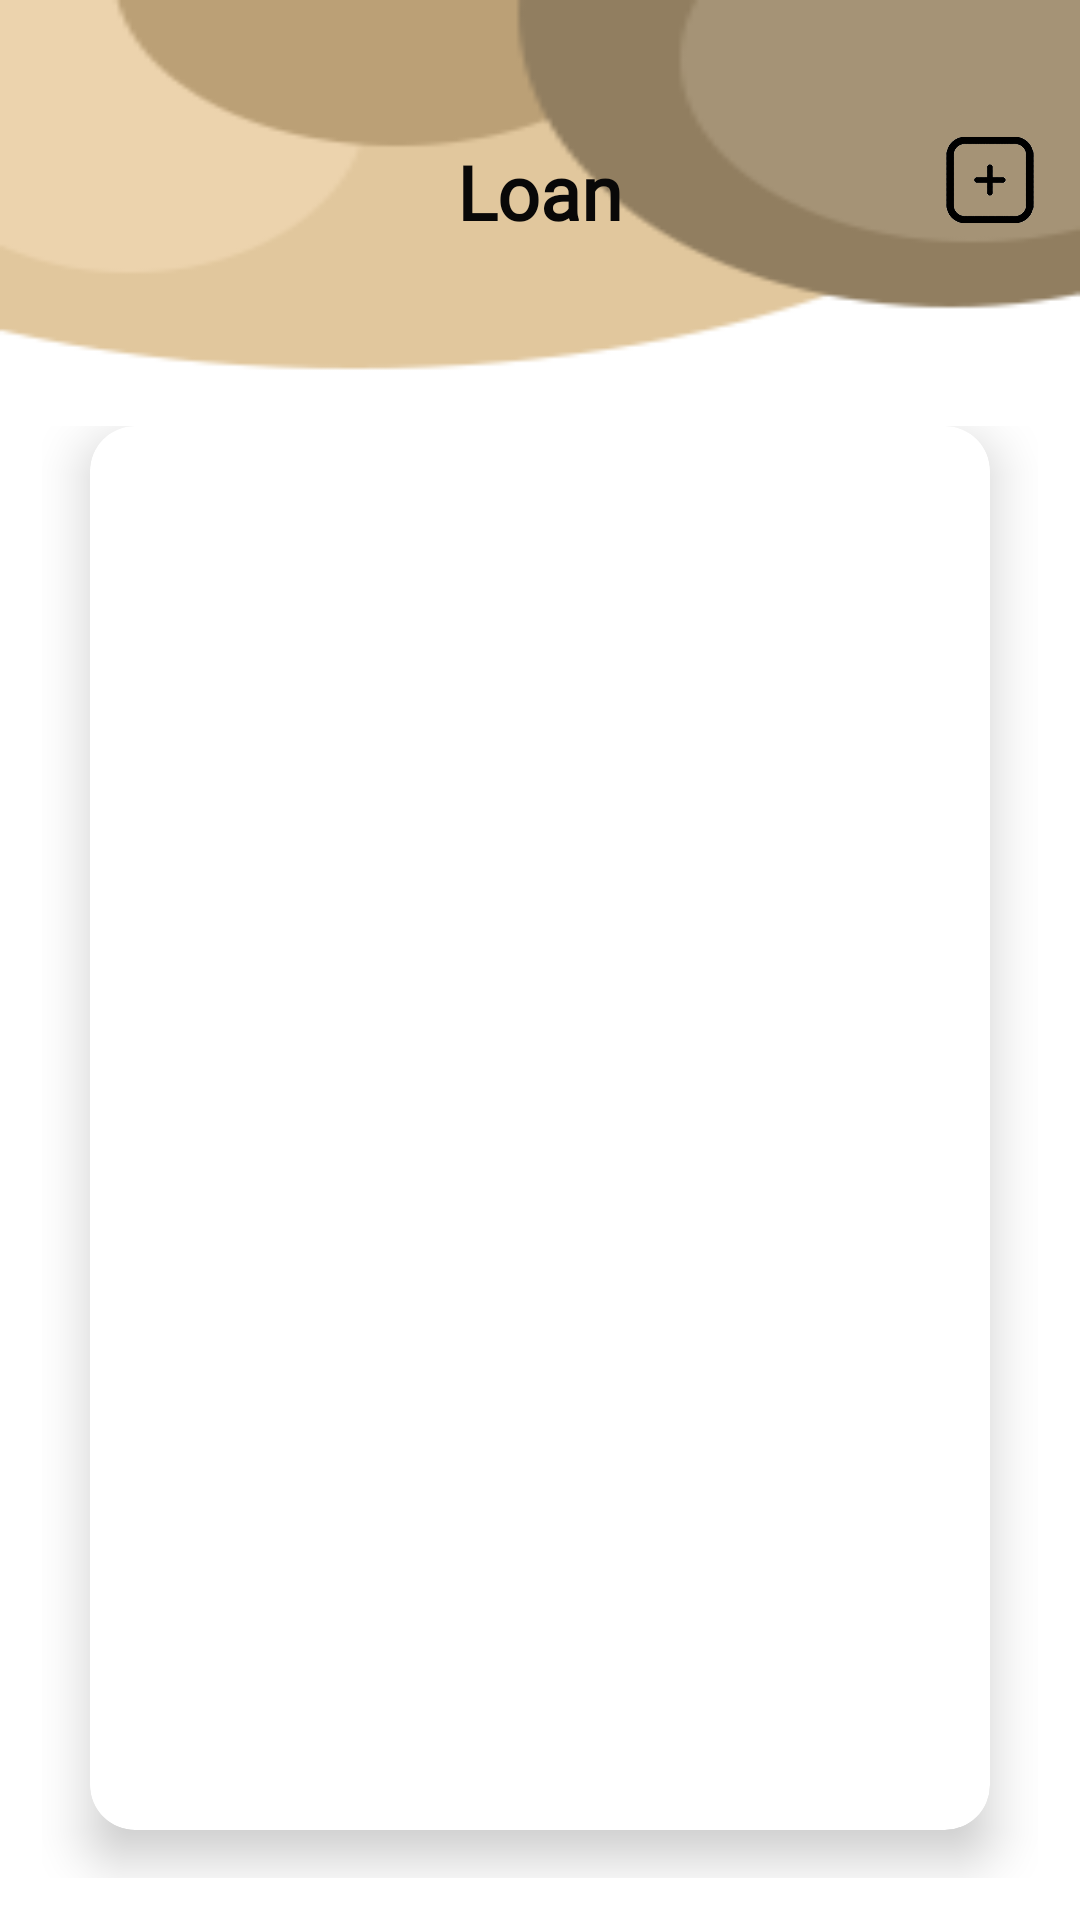

Icons on this 1080px×1920px Android screen, each with its box as (x1, y1, x2, y2):
addbutton: (946, 137, 1034, 223)
